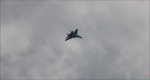maybay_muctieu: (65, 28, 83, 42)
